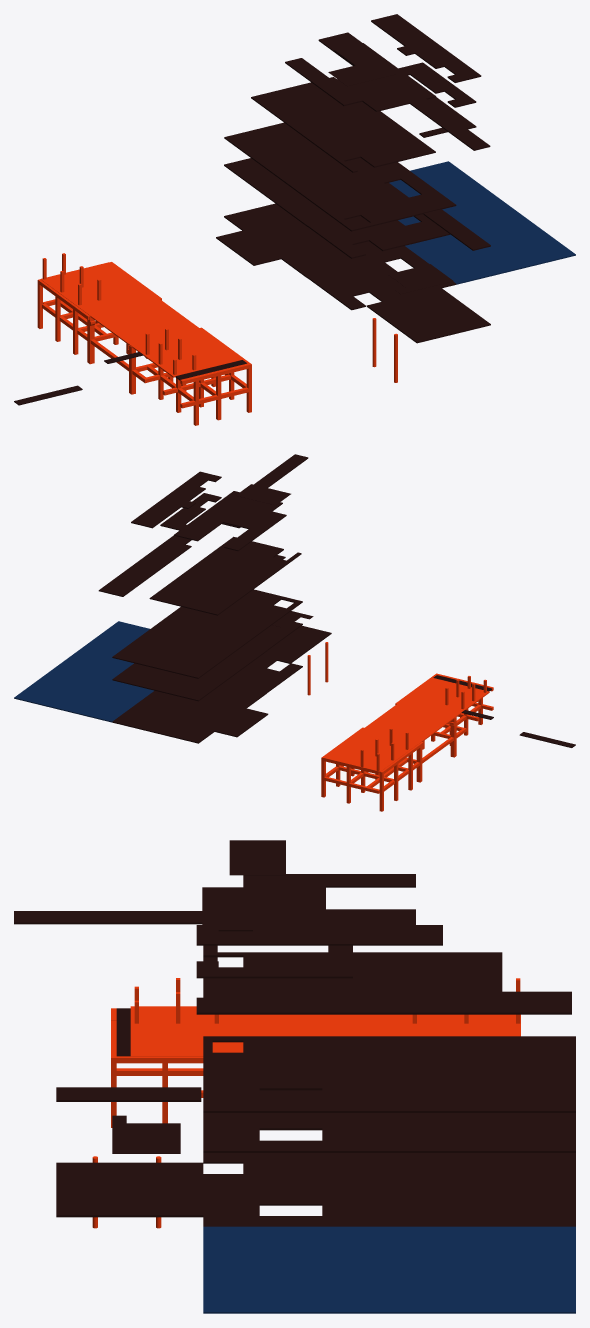
3 renders of one model, top to bottom at view 1: azimuth 30°, elevation 25°; view 2: azimuth 150°, elevation 25°; view 3: azimuth 270°, elevation 25°, orthographic. The views are drawn at different scales.
Parts seen in each view (by area): view 1: Object476; view 2: Object476; view 3: Object476.
Boxes of the visible parts, bbox=[...] form: Object476: bbox=[14, 14, 575, 425]; Object476: bbox=[14, 454, 575, 811]; Object476: bbox=[14, 840, 575, 1313].
Bounding box in the file's own units: 9864 × 4451 × 5887.
